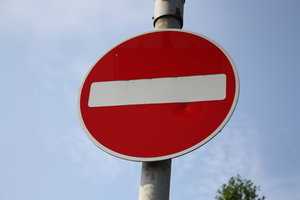No_entry: (77, 29, 240, 161)
